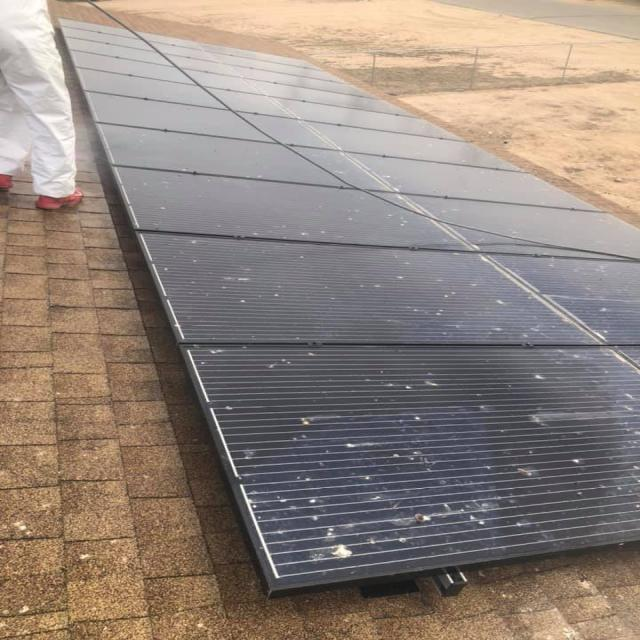dust-solar-panel: (93, 122, 640, 591)
